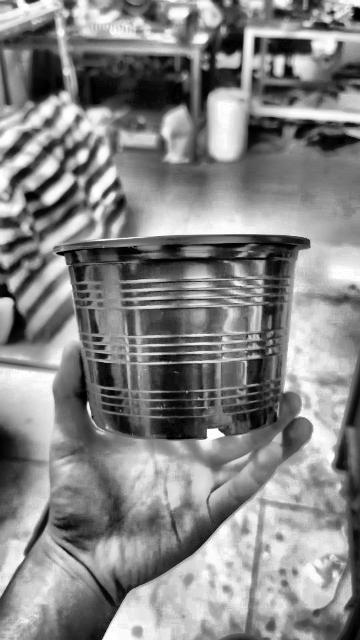pot: (54, 235, 309, 440)
